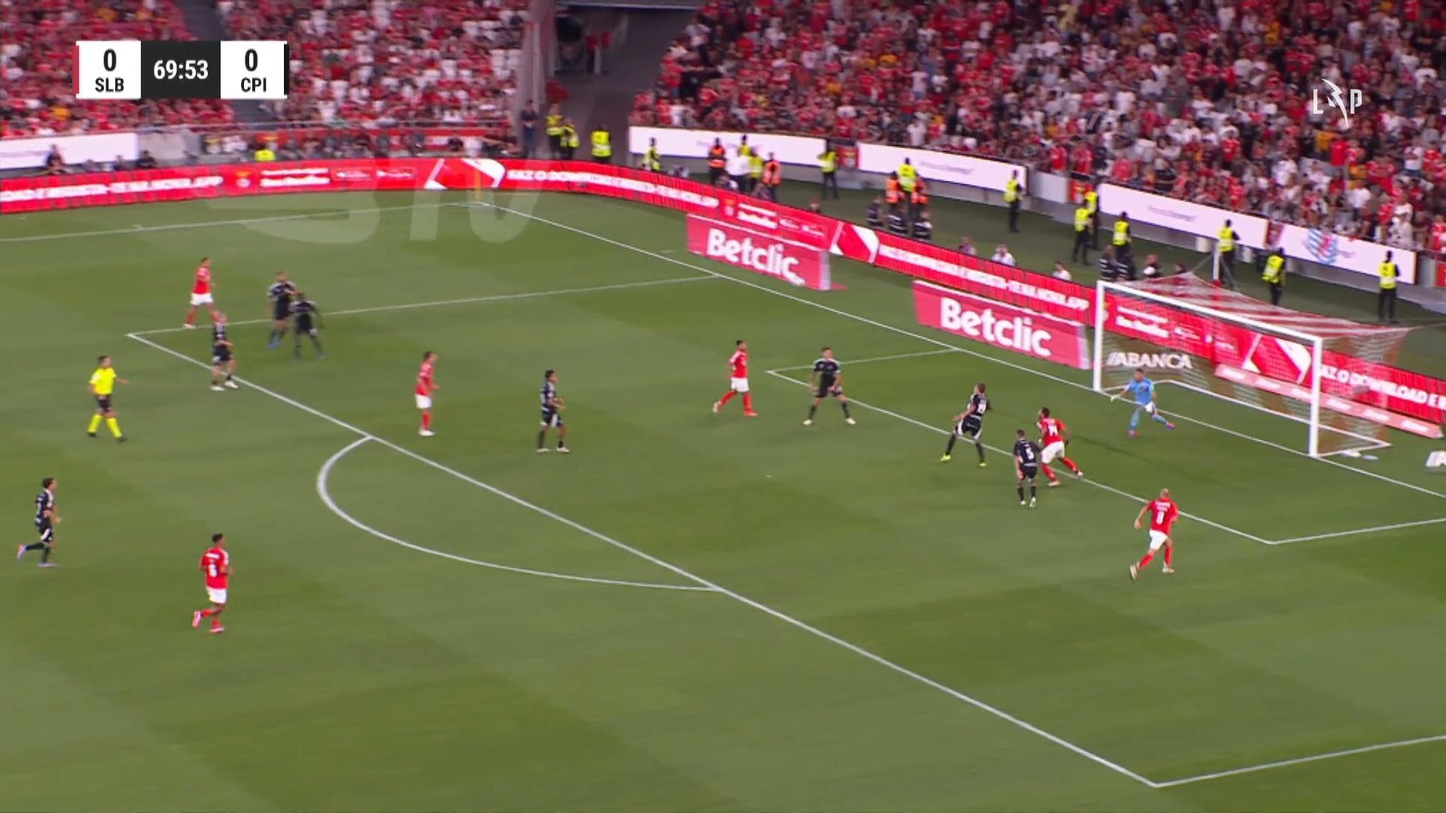goalkeeper: (1109, 365, 1175, 437)
player: (1127, 487, 1179, 582), (939, 381, 992, 467), (15, 476, 63, 568), (801, 346, 856, 425), (191, 531, 233, 633), (1035, 405, 1084, 487), (711, 338, 758, 416), (535, 368, 570, 452), (287, 290, 325, 361), (264, 270, 297, 349), (183, 255, 218, 329), (208, 309, 239, 391), (1011, 428, 1042, 509), (413, 349, 440, 436)
referee: (85, 353, 129, 442)
